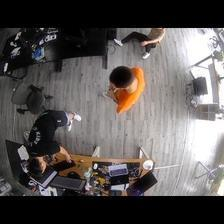fall: (113, 28, 167, 59)
normal: (23, 107, 79, 173), (103, 62, 146, 112)
